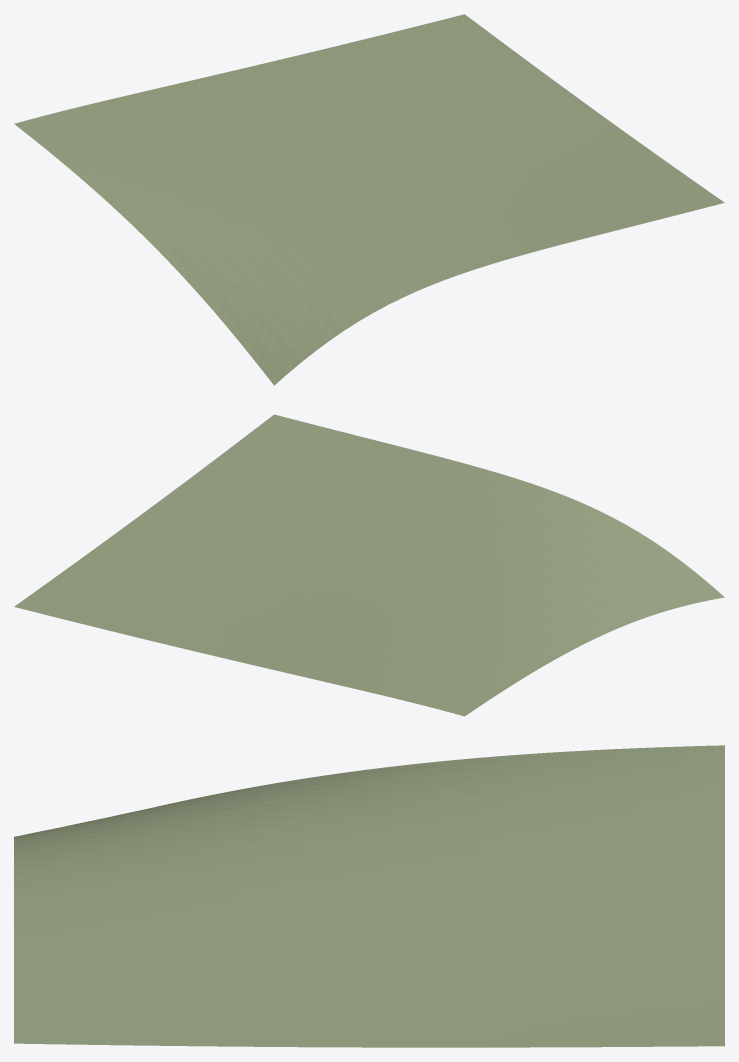
File: expanse-16-31.glb
The picture shows the model from 3 angles, top to bottom: view 1: azimuth 30°, elevation 25°; view 2: azimuth 150°, elevation 25°; view 3: azimuth 270°, elevation 25°; orthographic projection. The views are drawn at different scales.
Parts seen in each view (by area): view 1: expanse-16-31; view 2: expanse-16-31; view 3: expanse-16-31.
Boxes of the visible parts, x1,y1,x2,y2 form: expanse-16-31: (14,14,724,385); expanse-16-31: (14,414,724,716); expanse-16-31: (14,745,724,1047).
Bounding box in the file's own units: 256 × 39.61 × 256.
